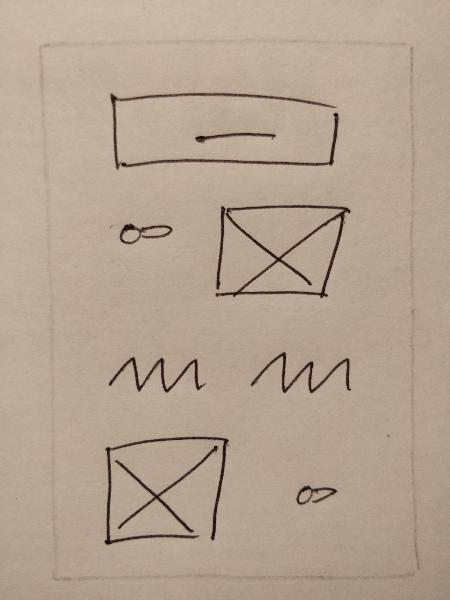button: (99, 81, 352, 177)
image: (90, 426, 231, 551), (202, 198, 360, 303)
switch: (110, 209, 186, 259), (282, 472, 343, 511)
text: (241, 337, 359, 401), (99, 344, 215, 399)
